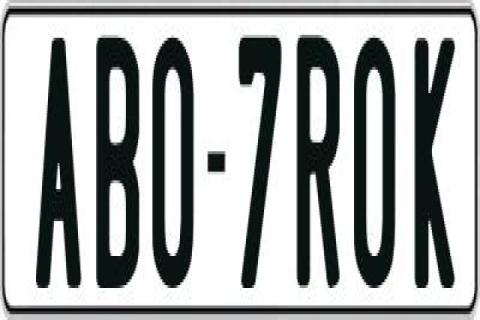0: (236, 32, 284, 300), (350, 32, 392, 282), (150, 38, 190, 300)
A: (32, 29, 82, 297)
B: (94, 38, 142, 291)
K: (412, 35, 454, 299)
R: (294, 38, 340, 297)
